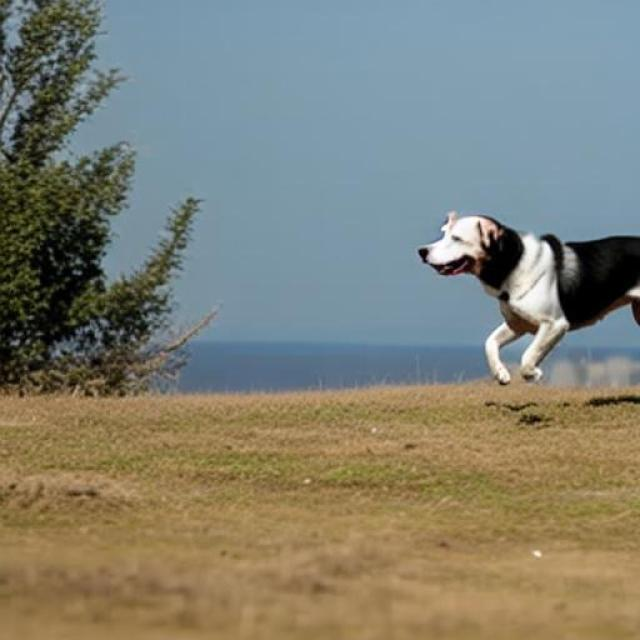Dog: (417, 208, 640, 386)
